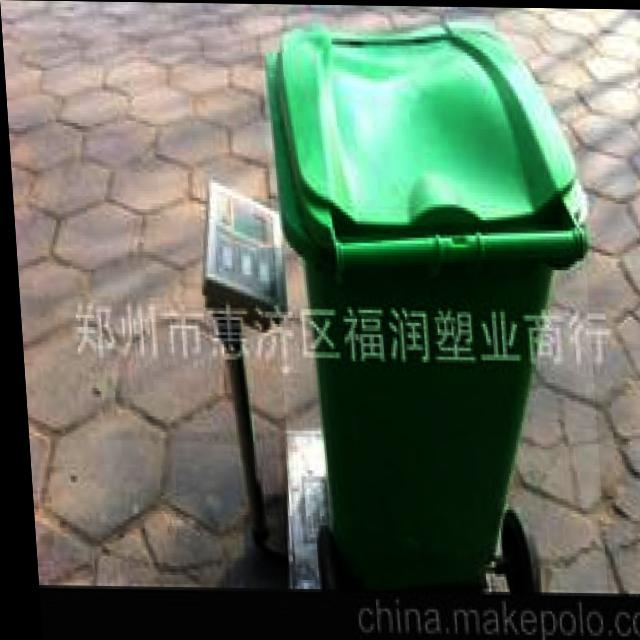garbage_bin: (259, 15, 600, 592)
